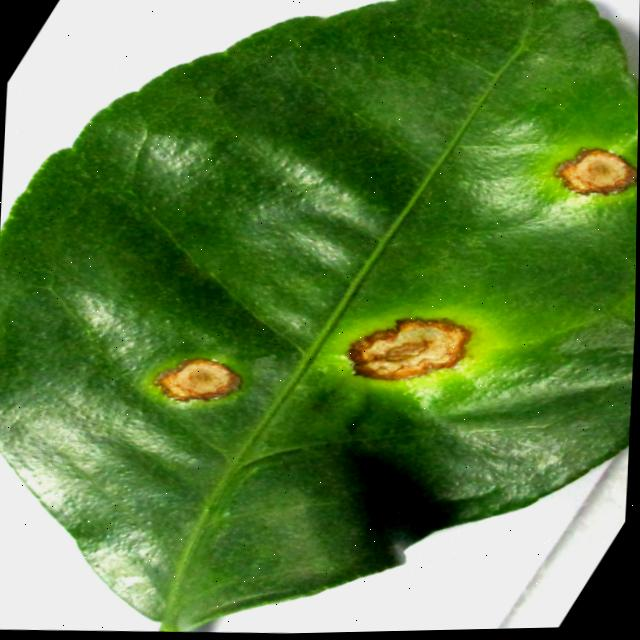antracnose: (0, 0, 638, 631), (347, 317, 470, 379), (554, 147, 637, 193), (155, 358, 240, 400)
